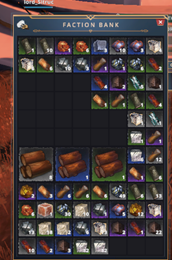ash log: (18, 36, 36, 54), (145, 164, 163, 182), (128, 91, 145, 109), (128, 182, 145, 200), (146, 182, 163, 200), (37, 37, 54, 54)
aurelium ore: (127, 201, 146, 219), (18, 182, 36, 200)
birch log: (128, 74, 145, 91), (146, 110, 163, 127)
copper ore: (18, 200, 36, 218), (55, 37, 72, 54), (73, 37, 90, 54)
granite stone: (91, 37, 108, 55)
iron ore: (109, 37, 127, 54), (128, 36, 145, 54), (109, 201, 127, 218)
limestone stone: (18, 55, 36, 73), (127, 110, 145, 128), (91, 219, 109, 237), (146, 201, 164, 219), (146, 36, 162, 54)
marble stone: (72, 238, 91, 255), (127, 146, 145, 163), (92, 238, 109, 255), (127, 129, 145, 145)
oak log: (37, 55, 55, 73), (91, 91, 109, 109), (36, 182, 54, 200), (128, 164, 145, 182), (91, 182, 108, 200)
silver ore: (72, 219, 91, 237), (18, 220, 37, 236), (91, 201, 108, 218), (73, 56, 90, 72), (56, 56, 72, 72)
slate stone: (109, 73, 127, 91), (109, 219, 127, 237), (146, 219, 163, 237), (55, 237, 72, 255), (146, 74, 163, 91)
spruce log: (55, 182, 72, 201), (146, 146, 163, 164), (73, 182, 90, 200), (110, 91, 126, 110), (91, 56, 108, 72)
tin ore: (109, 182, 127, 200), (128, 56, 145, 73), (109, 56, 126, 72), (55, 202, 72, 218)
travertine stone: (72, 201, 91, 218), (37, 219, 54, 236), (55, 219, 72, 236)
yew log: (127, 219, 146, 237), (36, 237, 54, 255), (146, 91, 163, 109), (18, 237, 36, 254), (146, 56, 163, 73), (91, 74, 108, 91)
